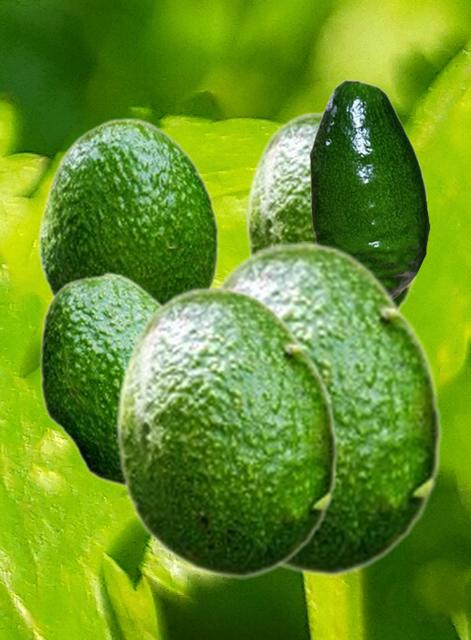avocado: (214, 241, 442, 576), (114, 286, 338, 578), (244, 111, 420, 310), (38, 117, 219, 301), (38, 271, 162, 490), (309, 79, 429, 299)
